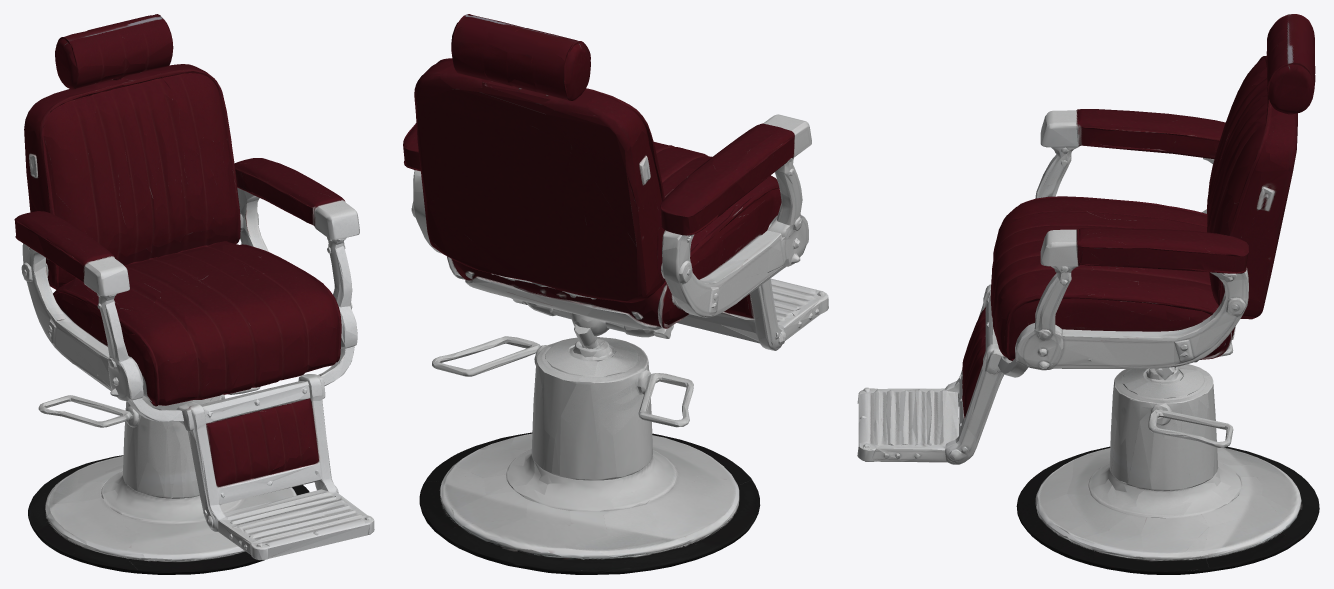
Rendered from barber-chair.glb.
3 renders of one model, left to right at view 1: azimuth 30°, elevation 25°; view 2: azimuth 150°, elevation 25°; view 3: azimuth 270°, elevation 25°, orthographic. The views are drawn at different scales.
Visible parts, largest first — view 1: Mesh_0; view 2: Mesh_0; view 3: Mesh_0.
Boxes of the visible parts, left/top/right/bottom form: Mesh_0: left=14, top=14, right=374, bottom=574; Mesh_0: left=403, top=14, right=828, bottom=574; Mesh_0: left=857, top=14, right=1319, bottom=574.
Bounding box in the file's own units: 1.18 × 1.9 × 1.68.
Materials: 1 (1 with a texture image).
